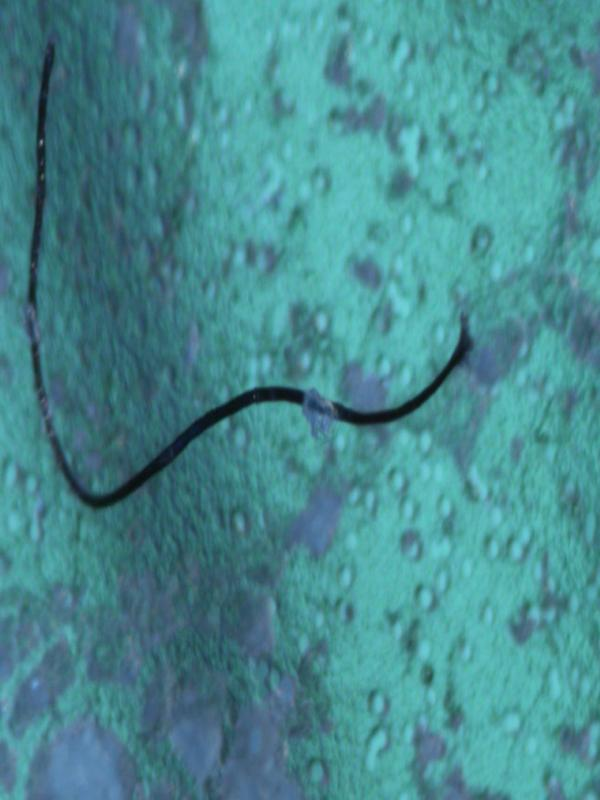microplastic: (22, 33, 473, 510)
